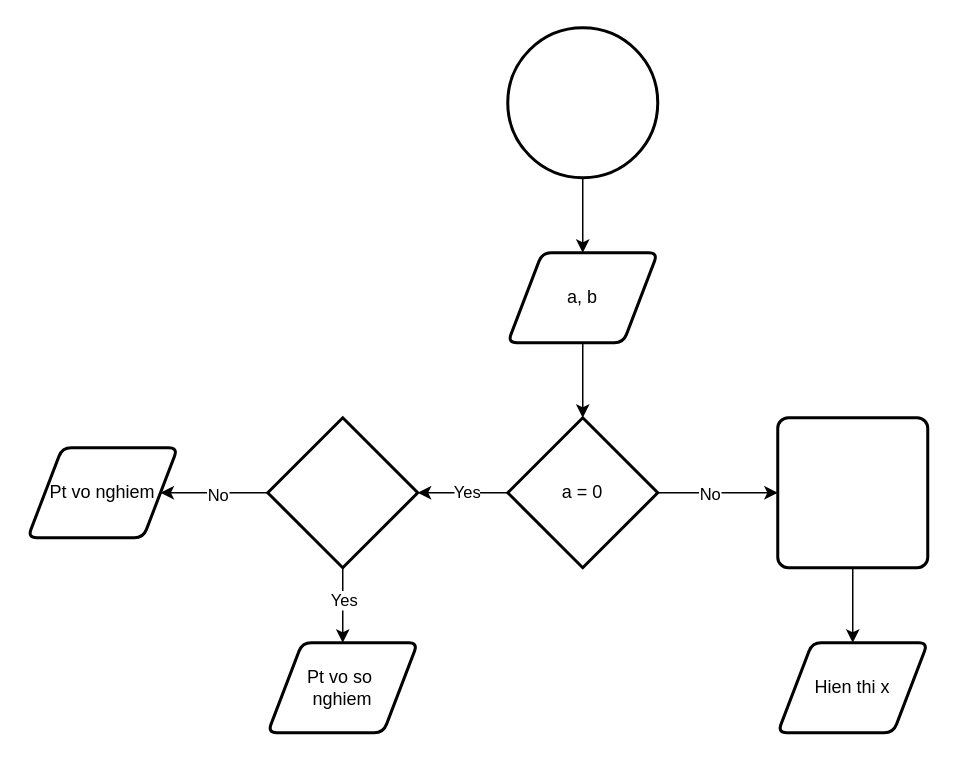
Image size: 954x759. Some labels were removed from this diagram. The shapes that lost their labels are listed below. From the top down, each one's centre as x and y in pixels, then its label:
At [582,102]: "start".
At [342,492]: "b = 0".
At [852,492]: "x = -b/a".
